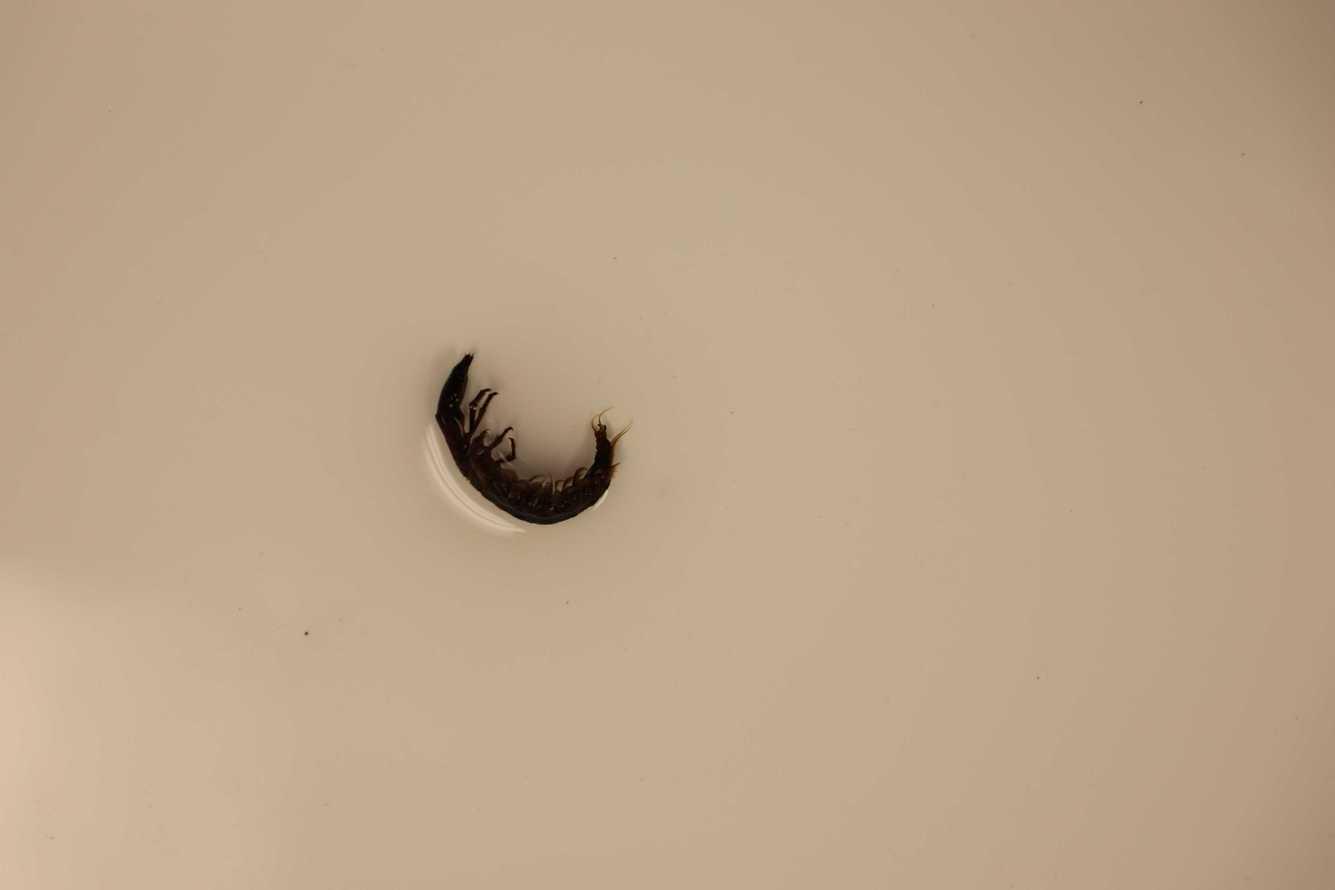Other: (428, 348, 629, 524)
